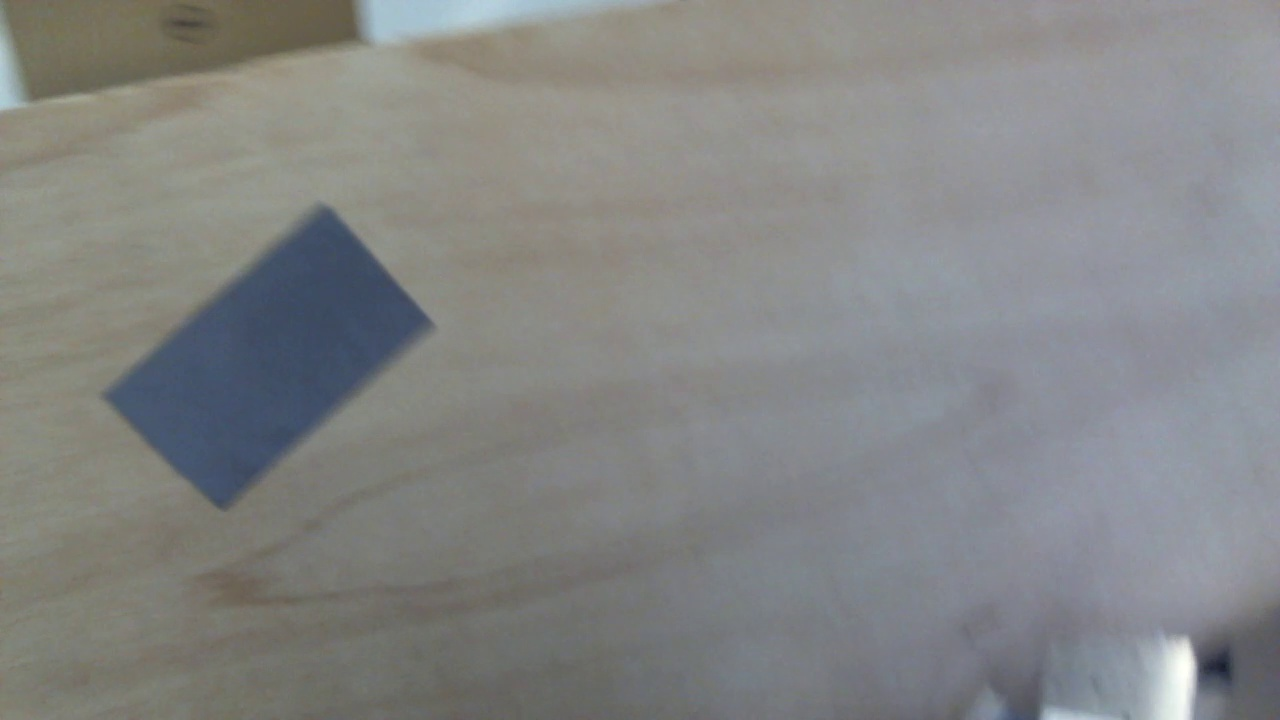Tape: (104, 199, 441, 510)
